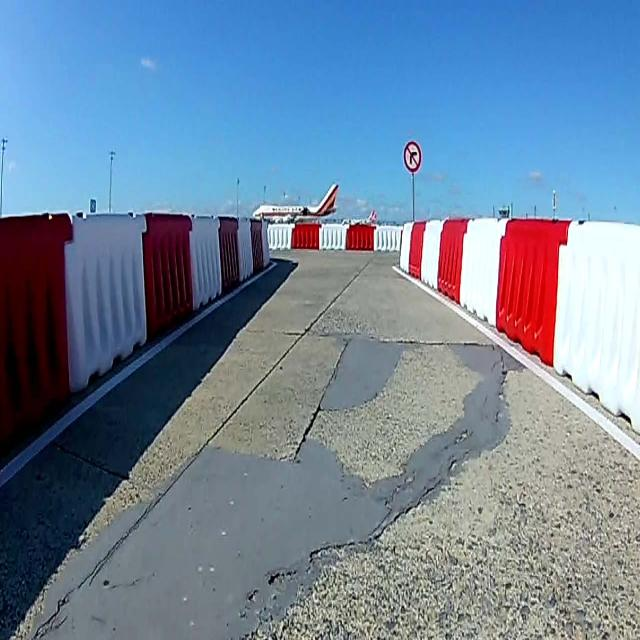sagadonulmez: (402, 139, 422, 173)
